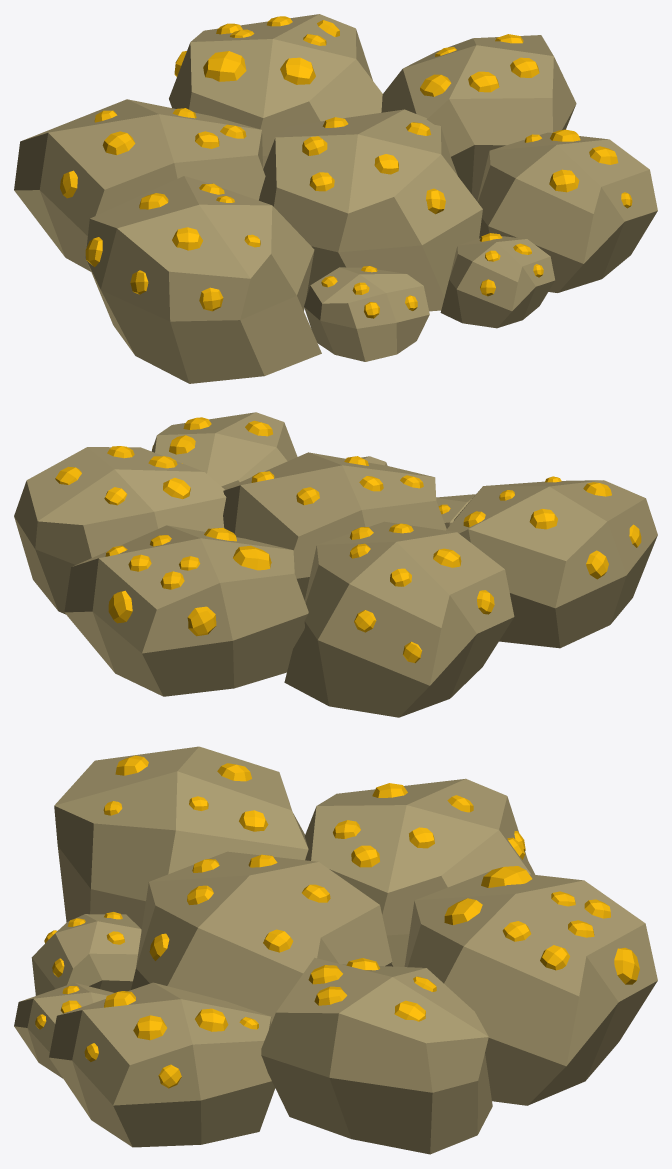
File: desert_stone_gold_2.fbx
3 views of the same model, one above another, from view 1: azimuth 30°, elevation 25°; view 2: azimuth 150°, elevation 25°; view 3: azimuth 270°, elevation 25° (orthographic). The views are drawn at different scales.
Parts seen in each view (by area): view 1: Cube.060; view 2: Cube.060; view 3: Cube.060.
Part boxes in pixels (box(x1,y1,x2,y2)): Cube.060: box(14, 14, 657, 383); Cube.060: box(14, 412, 657, 717); Cube.060: box(14, 746, 657, 1154).
Bounding box in the file's own units: 83.44 × 20.38 × 75.12.
